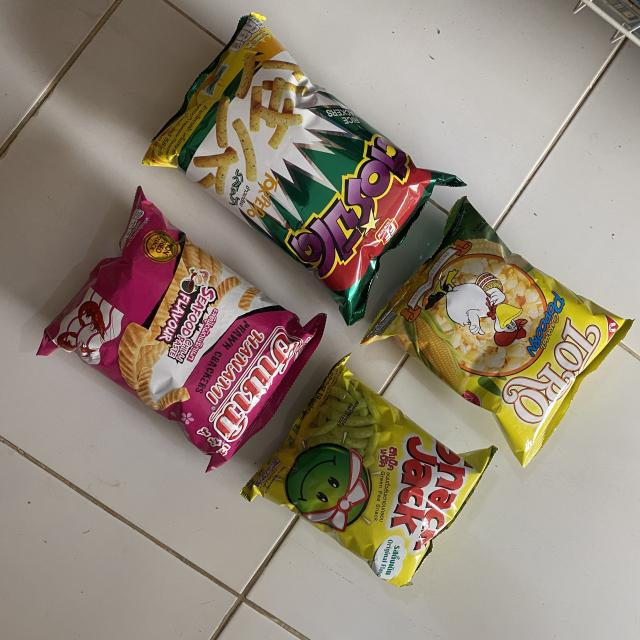plastik: (142, 12, 464, 325), (38, 188, 325, 470), (361, 198, 632, 466), (241, 356, 496, 586)
